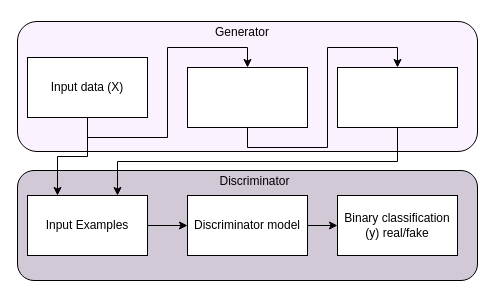
Image size: 495x298. Some labels were removed from this diagram. The centre of each missing label's shape, as x and y in pixels:
"Generated examples" belongs at (397,97).
"Generator model" belongs at (247,97).
